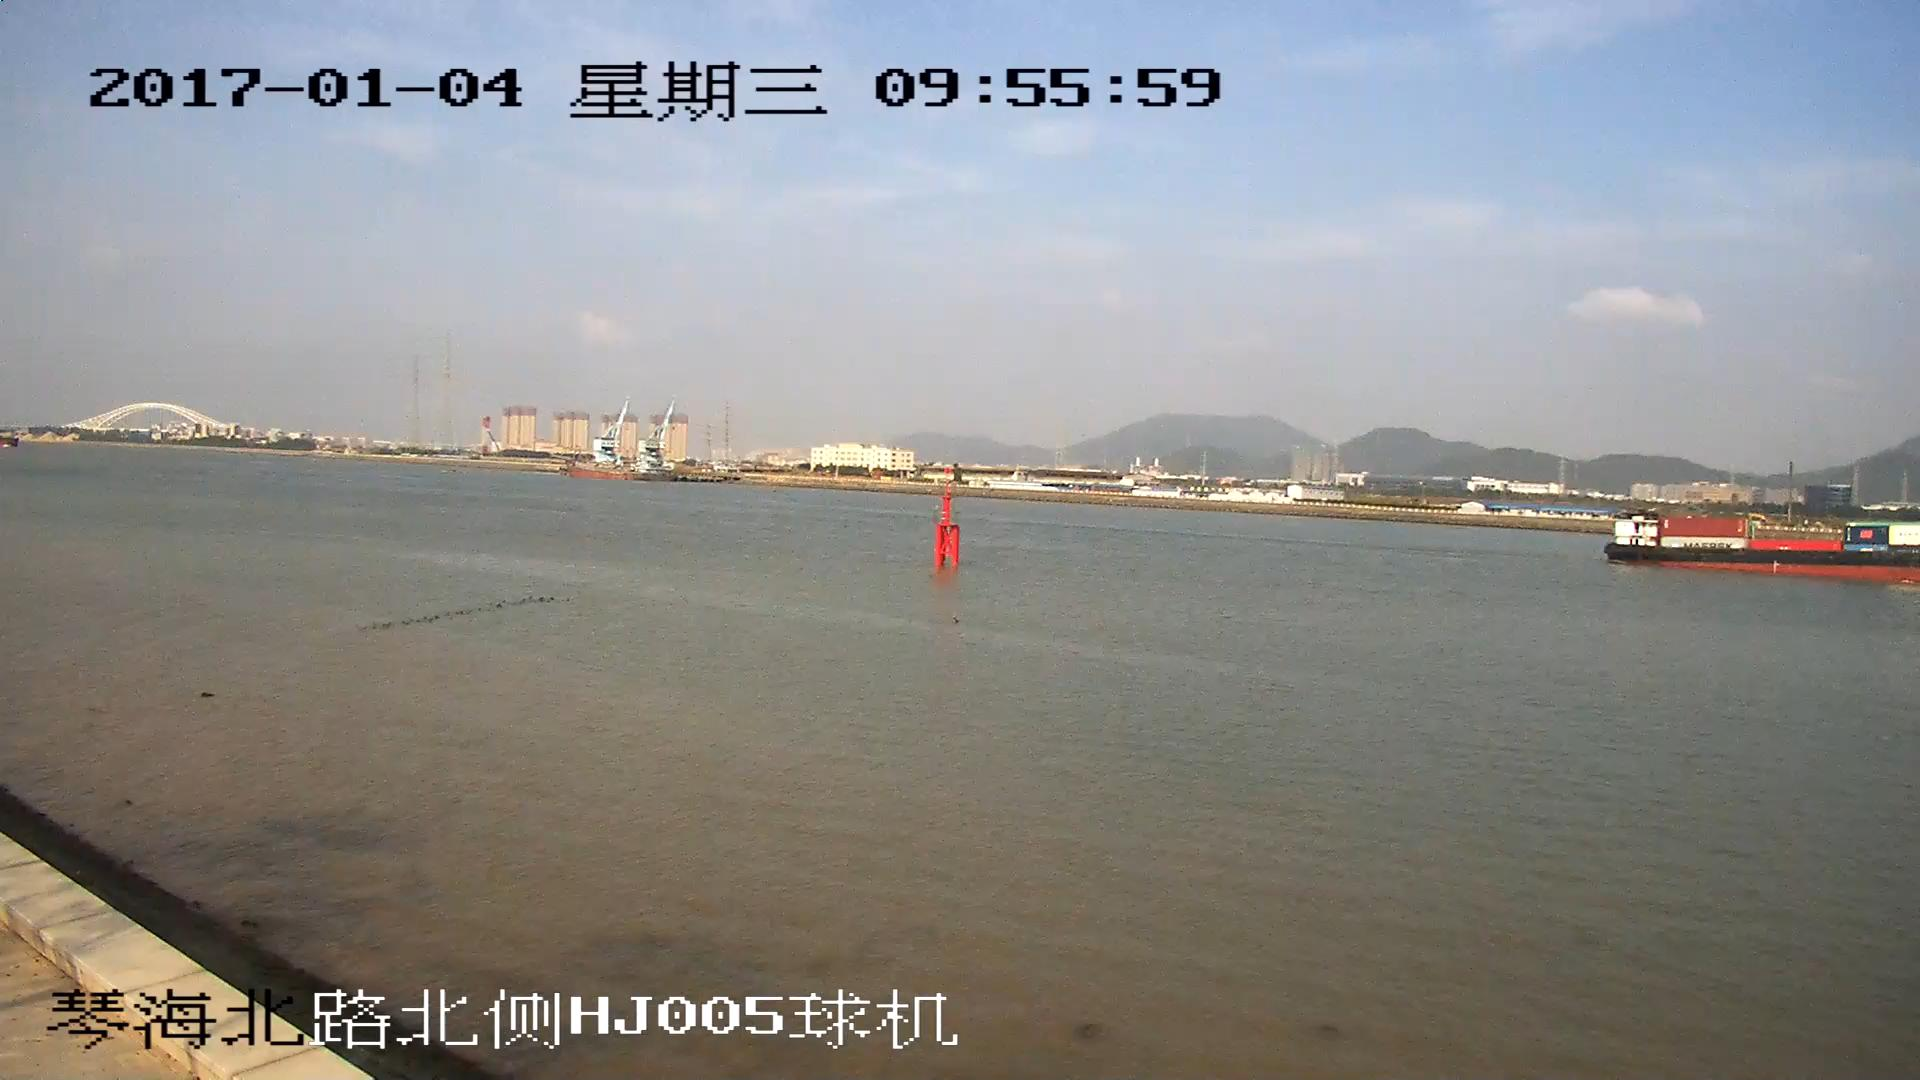container ship: (1603, 512, 1920, 586)
